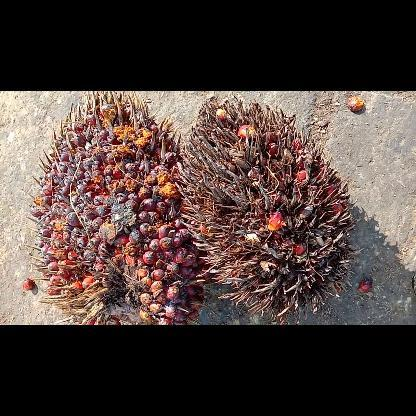TBS masak: (27, 90, 213, 324)
Terlalu masak: (181, 98, 357, 324)
